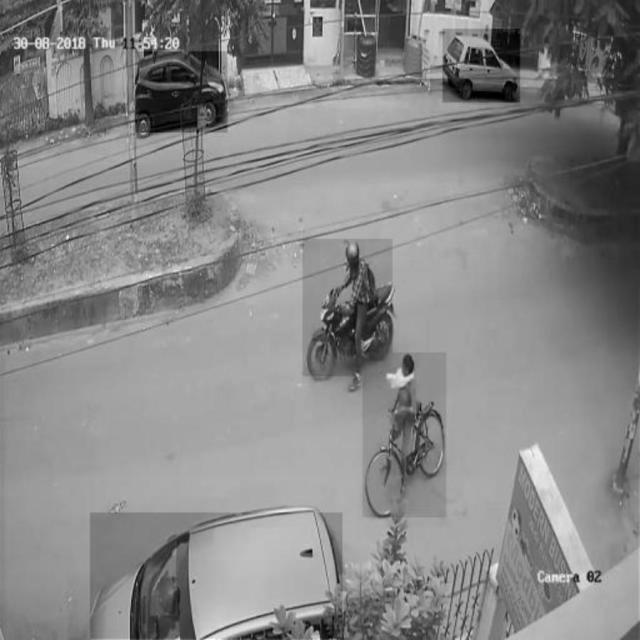vehicle: (90, 513, 342, 639), (363, 353, 446, 518), (303, 239, 393, 376), (136, 51, 228, 132), (443, 29, 520, 102)
